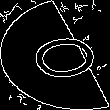O_E: (10, 26, 100, 84)
